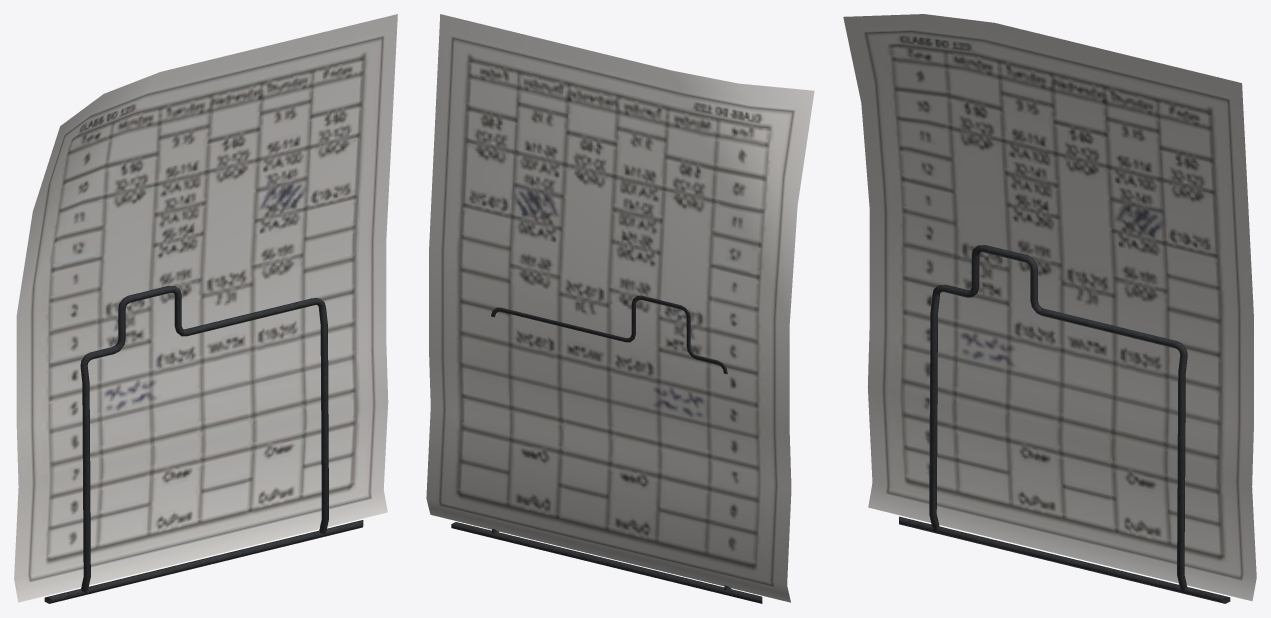
Rendered from scanroom_schedule02.dae.
The picture shows the model from 3 angles, left to right: view 1: azimuth 30°, elevation 25°; view 2: azimuth 150°, elevation 25°; view 3: azimuth 330°, elevation 25°; orthographic projection. The views are drawn at different scales.
Parts seen in each view (by area): view 1: polySurface251; view 2: polySurface251; view 3: polySurface251.
Boxes of the visible parts, <box> form: polySurface251: <box>14,14,397,603</box>; polySurface251: <box>426,14,814,603</box>; polySurface251: <box>843,14,1256,603</box>.
Bounding box in the file's own units: 28.64 × 38.06 × 4.98.
